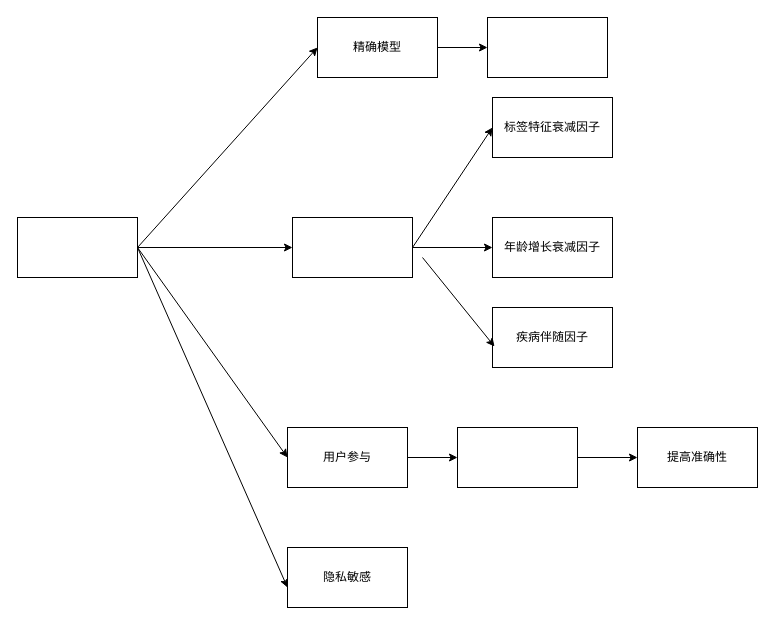
Some shapes in this 775 by 625 pixel diagram are drawn without their labels. The centre of each missing label's shape, as x and y in pixels:
健康画像因子: point (352, 247)
患者标签: point (547, 47)
注意点: point (77, 247)
画像逐步完善: point (517, 457)
